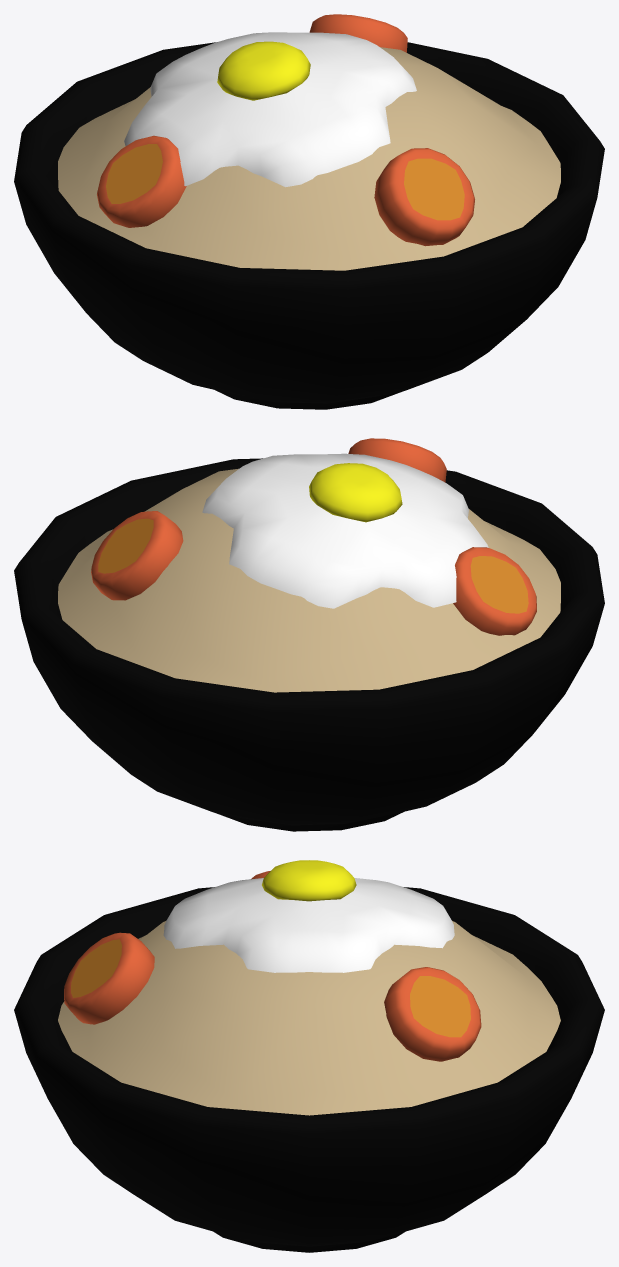
The model's file is ASFTR_Bowl_RiceEggCarrot.fbx.
3 renders of one model, top to bottom at view 1: azimuth 30°, elevation 25°; view 2: azimuth 150°, elevation 25°; view 3: azimuth 270°, elevation 25°, orthographic.
Parts seen in each view (by area): view 1: ASFTR_Bowl_RiceEggCarrot; view 2: ASFTR_Bowl_RiceEggCarrot; view 3: ASFTR_Bowl_RiceEggCarrot.
Part boxes in pixels (left/top/right/bottom): ASFTR_Bowl_RiceEggCarrot: left=14, top=14, right=604, bottom=409; ASFTR_Bowl_RiceEggCarrot: left=14, top=438, right=604, bottom=831; ASFTR_Bowl_RiceEggCarrot: left=14, top=860, right=604, bottom=1252.
Size of the model in its own units: 60.78 by 60.78 by 35.67.
